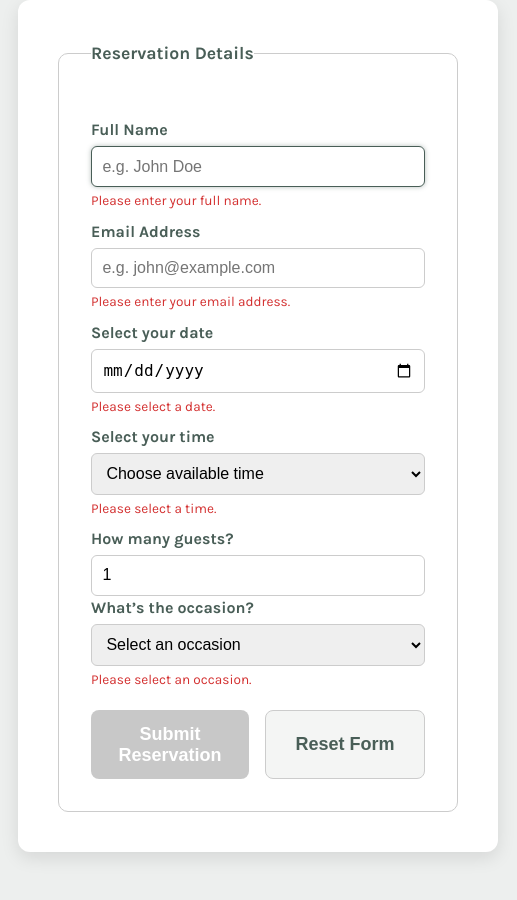
BookingForm React validation logic › shows error messages for invalid inputs
Step 1. Replace the text in the number field labelled "How many guests?" with "0" → [258, 576], box 91,555 -> 425,596
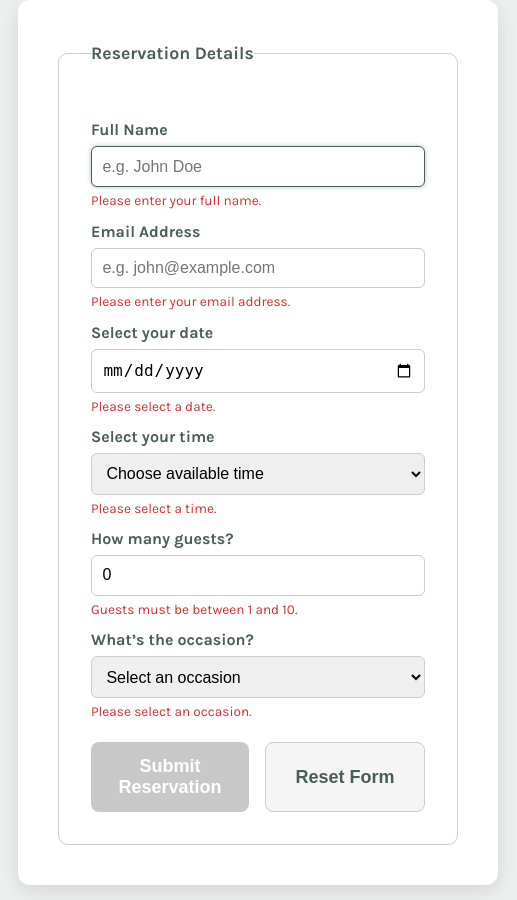
Check: the text "Guests must be between 1 and 10." is shown, box 91,602 -> 297,617
